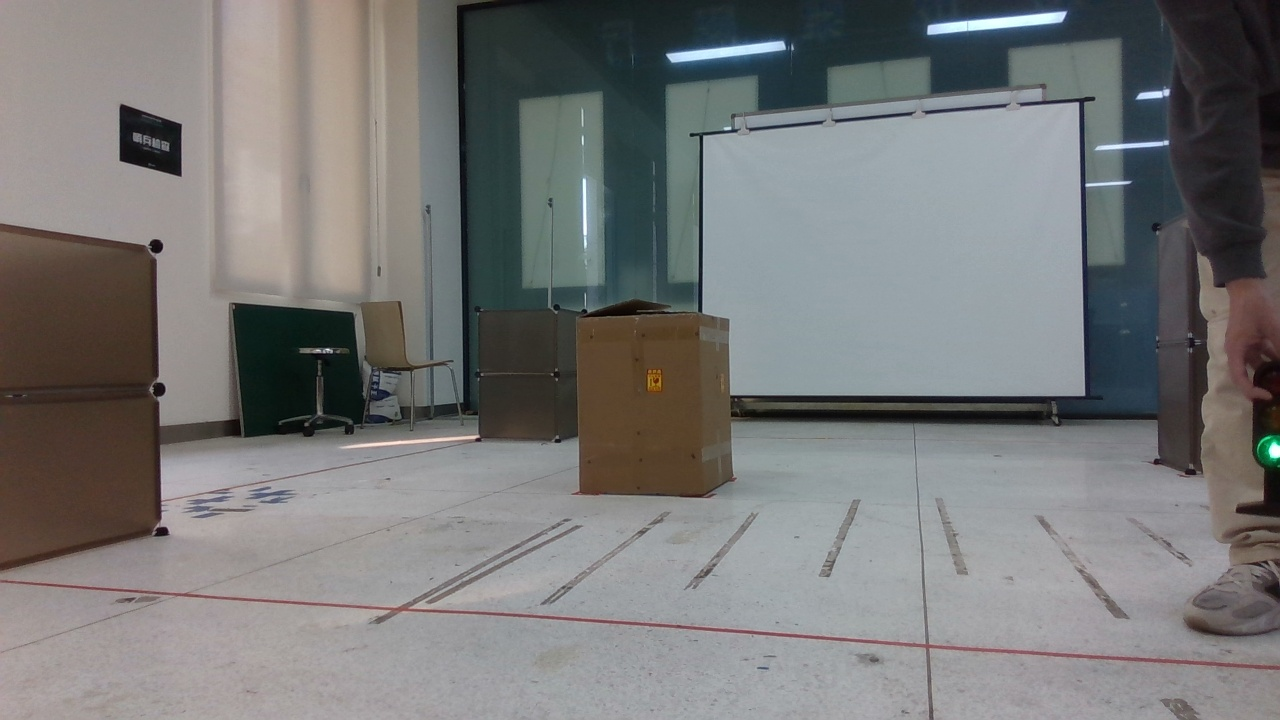green_light: (1229, 340, 1280, 517)
